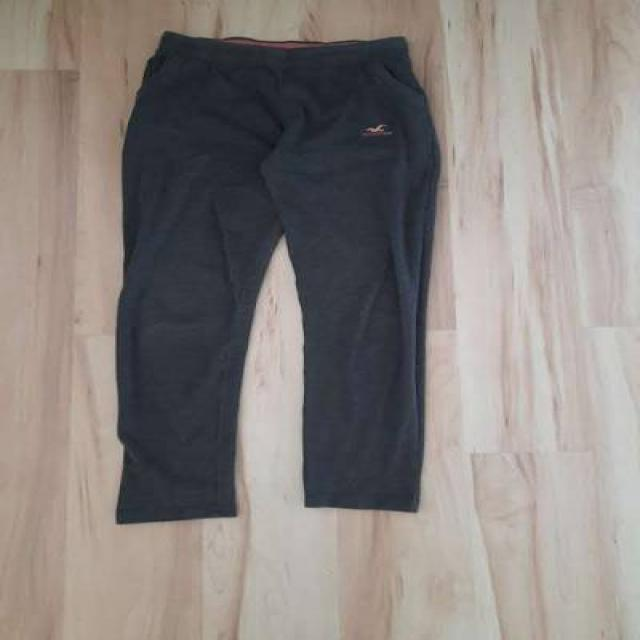Clothes -Biodegradable-: (111, 33, 437, 523)
